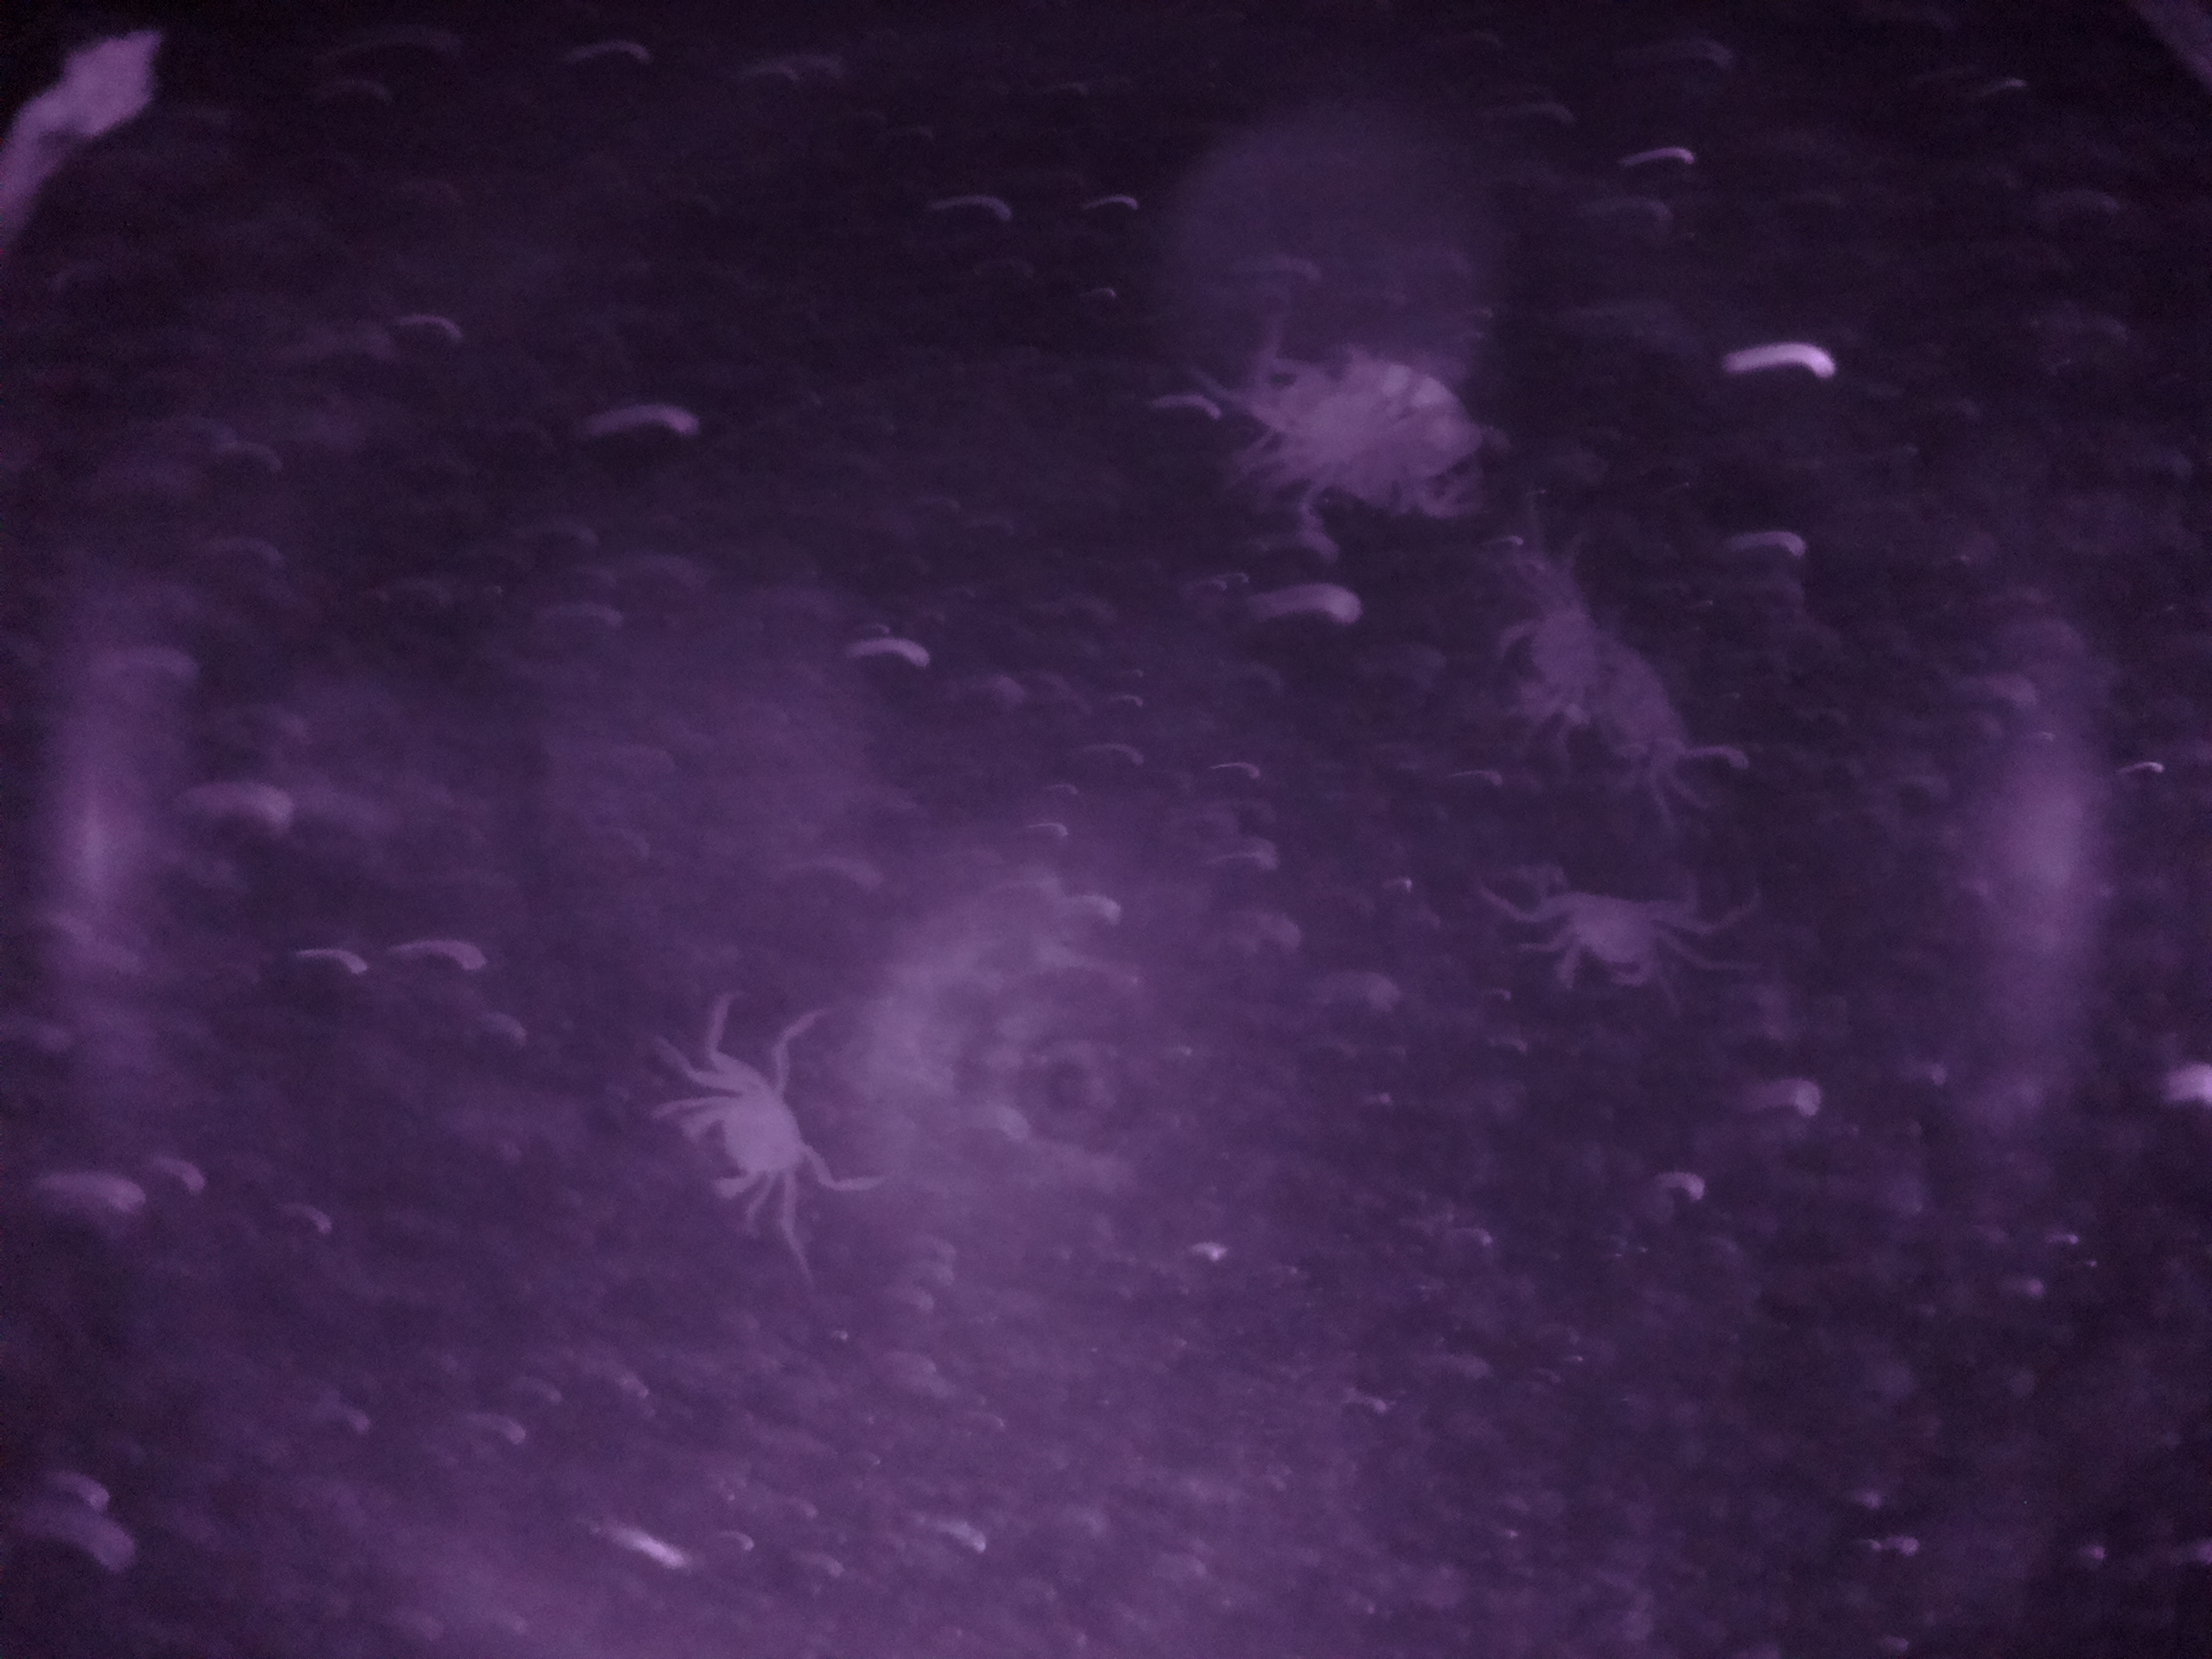Crab: (674, 1054, 848, 1237)
